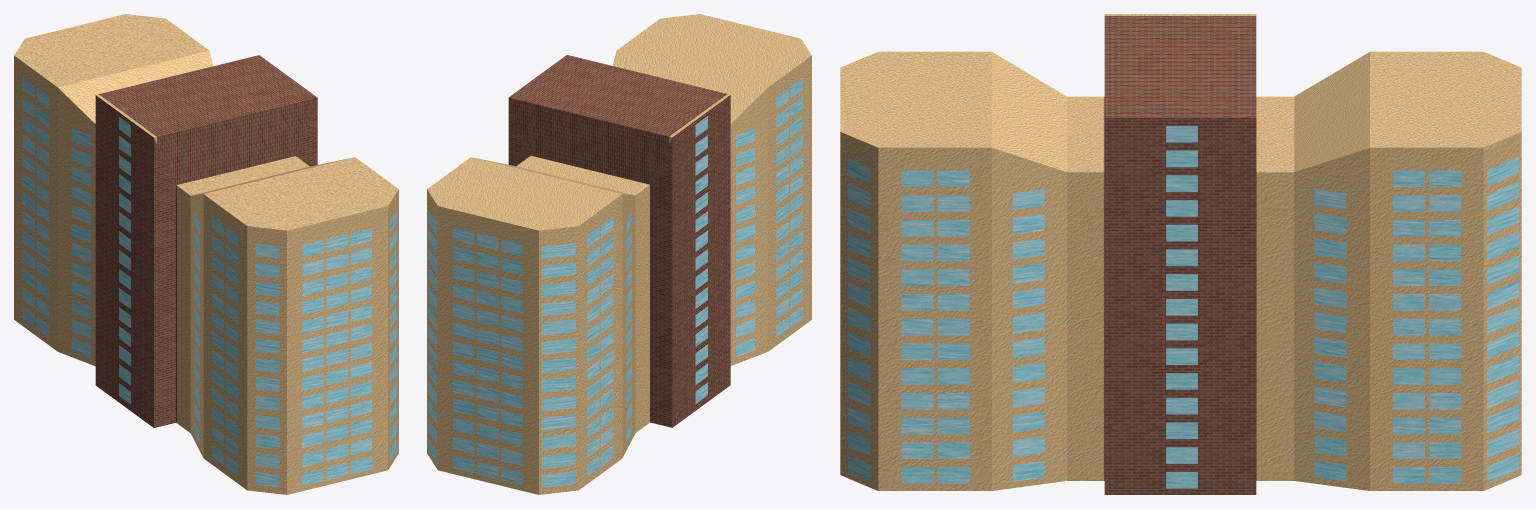
The model's file is FirstWorld_Buildings_Apartments.FBX.
The picture shows the model from 3 angles, left to right: view 1: azimuth 30°, elevation 25°; view 2: azimuth 150°, elevation 25°; view 3: azimuth 270°, elevation 25°; orthographic projection. The views are drawn at different scales.
Visible parts, largest first — view 1: Box001; view 2: Box001; view 3: Box001.
Part boxes in pixels (left/top/right/bottom): Box001: left=14, top=14, right=398, bottom=494; Box001: left=427, top=14, right=811, bottom=494; Box001: left=840, top=14, right=1521, bottom=494.
Bounding box in the file's own units: 64.81 × 110 × 180.
1 material, 1 textured.
